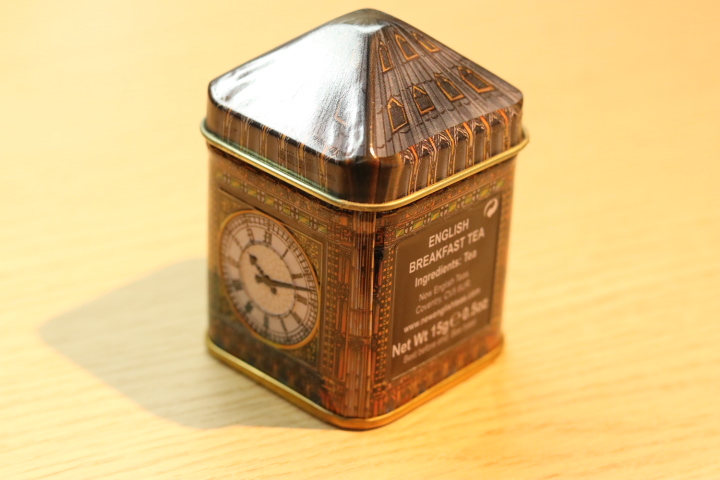Big Ben: (184, 4, 551, 440)
